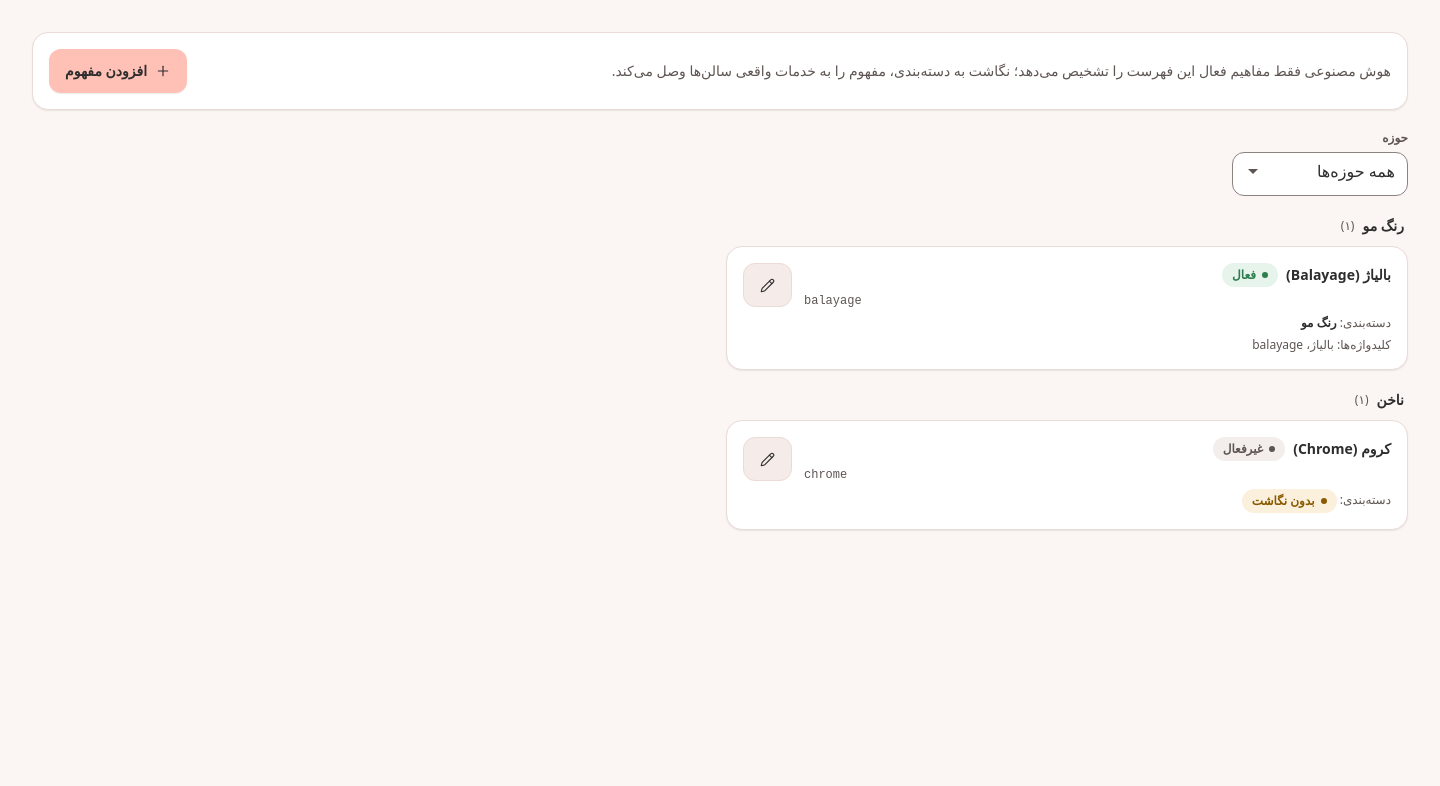
Test: BeautyConceptsView › shows the cautious-maintenance hint in the form
This screenshot has width=1440, height=786.
Click the button with test id "new-concept": (118, 71) [49, 49, 187, 93]
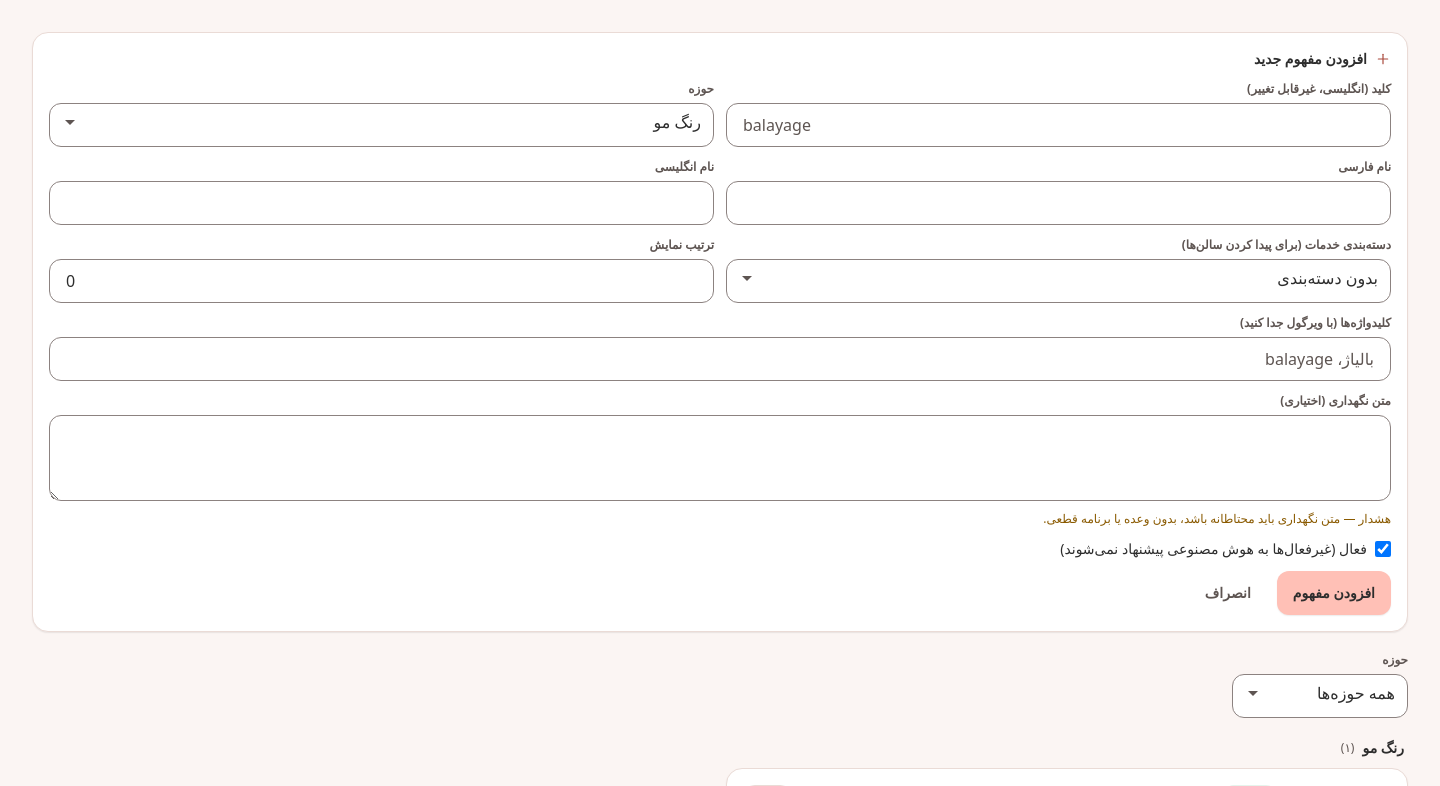
expect the form with test id "concept-form" shows "بدون وعده یا برنامه قطعی": met, box [1043, 510, 1391, 527]
